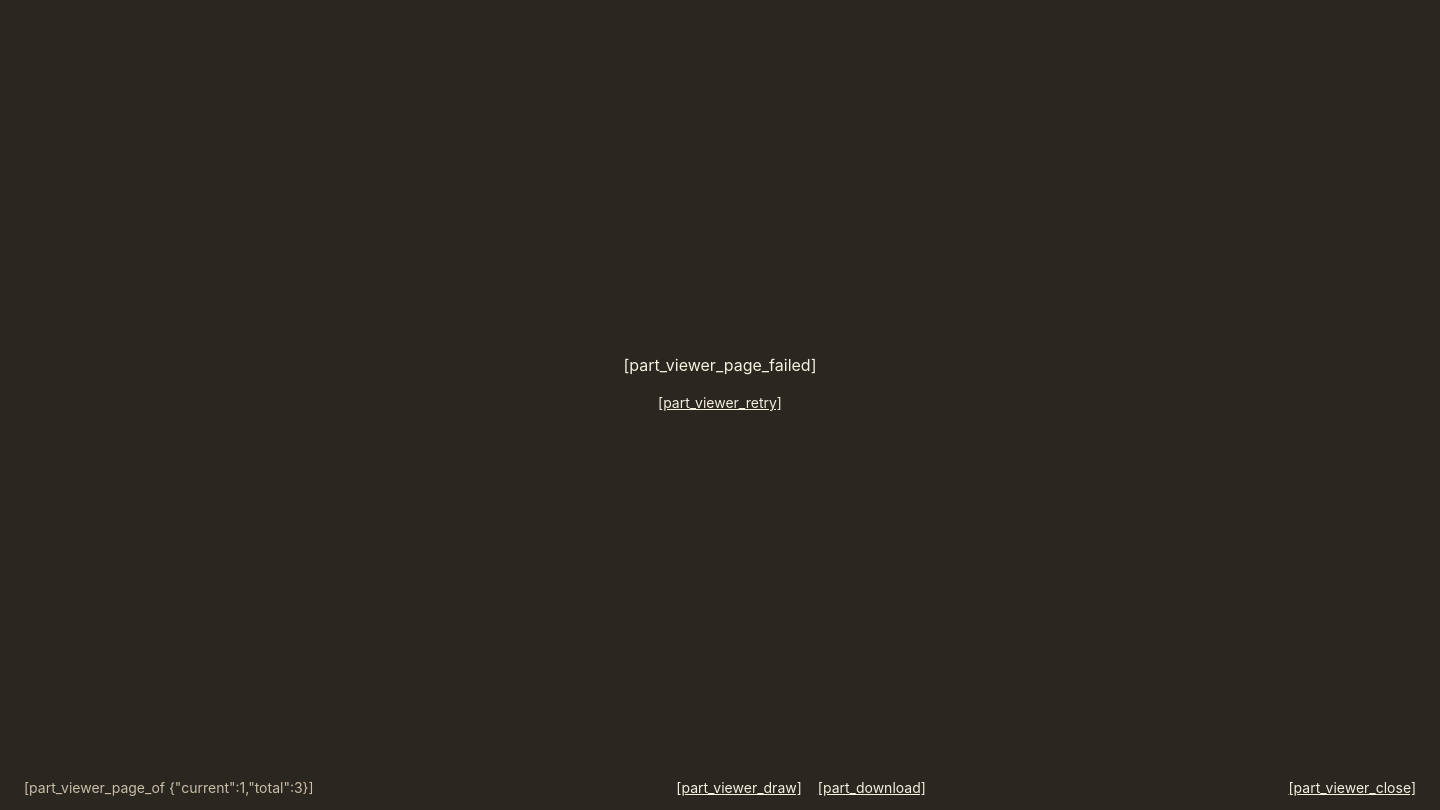
#942 — a page that fails to draw is retried, then says so › Try again draws the page again at the normal ratio and clears the message
Check: the text "[part_viewer_page_of {\"current\":1,\"total\":3}]" is shown, box [24,778,314,798]
Check: the text "[part_viewer_page_failed]" is shown, box [624,353,816,377]
Click the button with test id "part-viewer-retry": (720, 403) [658,393,782,413]
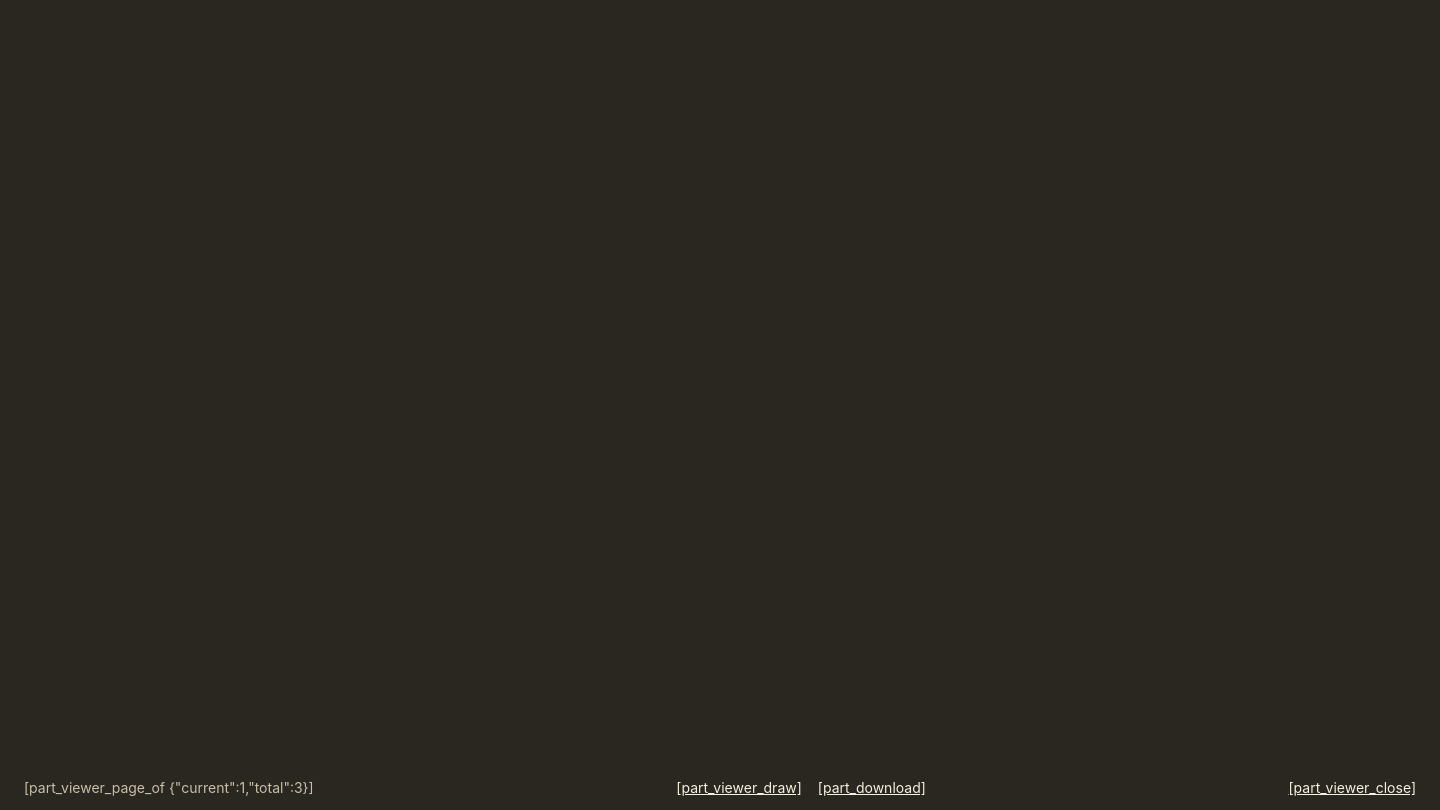
Check: the text with test id "part-viewer-page-failed" is gone
